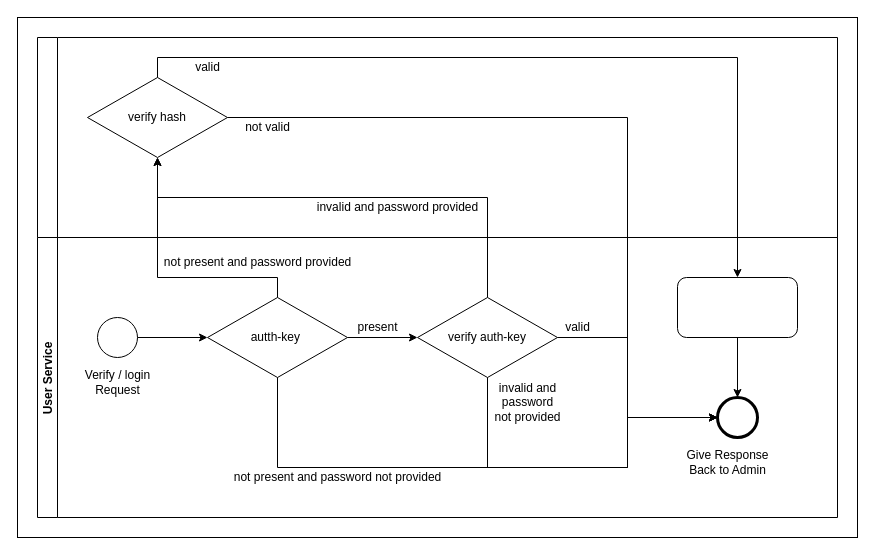
The diagram is 875 pixels wide and 555 high, and some of its shapes have lost their labels. The shapes that lost their labels are listed below. From the top down, each one's box as (x1, y1, x2, y2) in pixels, then its label:
(36, 36, 838, 238): Auth Service
(676, 276, 798, 338): Generate auth-key and save in cookies
